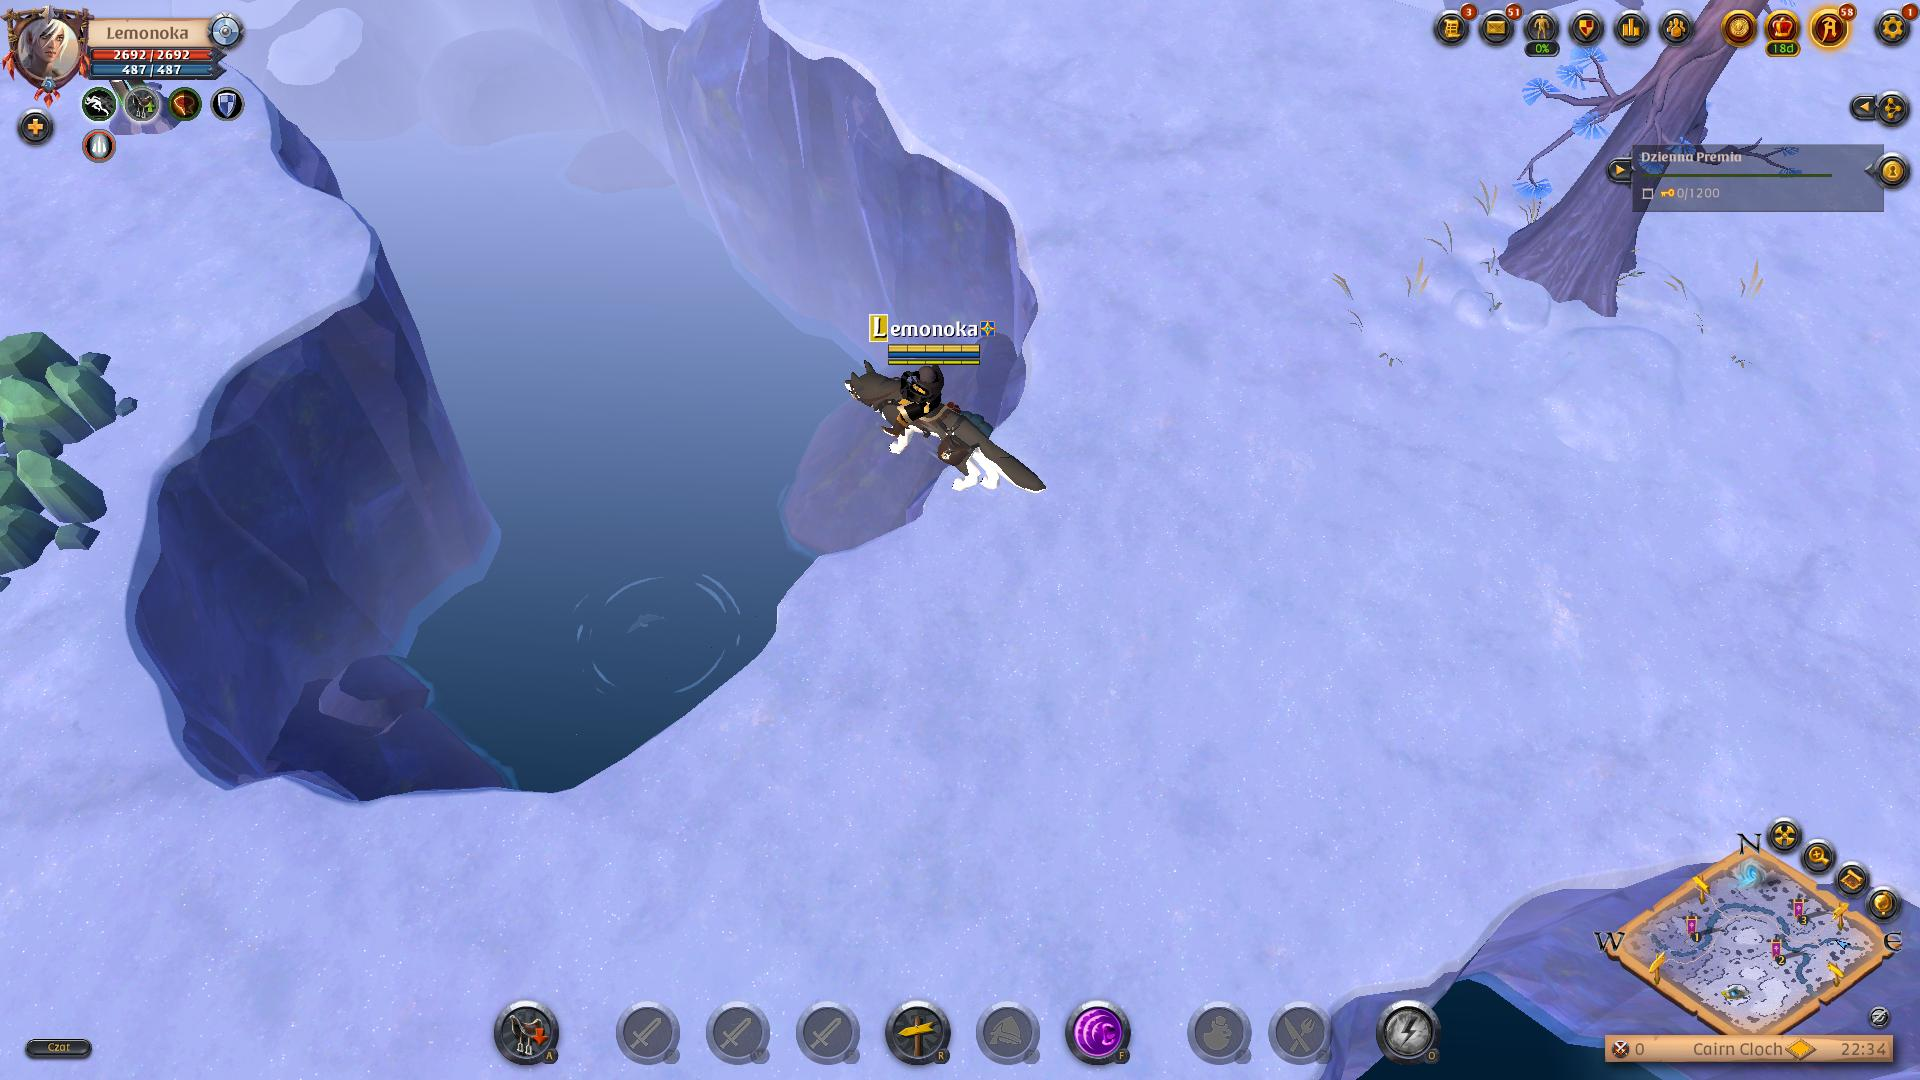fish: (556, 560, 758, 702)
